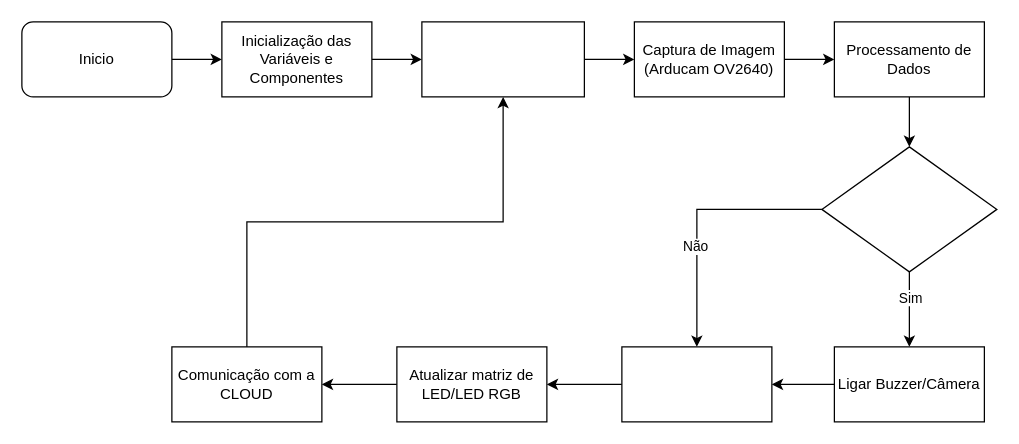
This 1019x444 diagram has some shape labels left out. The shapes that lost their labels are listed below. From the top down, each one's box as (x1, y1, x2, y2) in pixels, then its label:
(421, 21, 584, 97): Leitura de Sensores (DHT22, Joystick)
(821, 146, 997, 272): Temperatura Alta/Baixa?
(621, 346, 772, 422): Exibição de dados (Display OLED )
